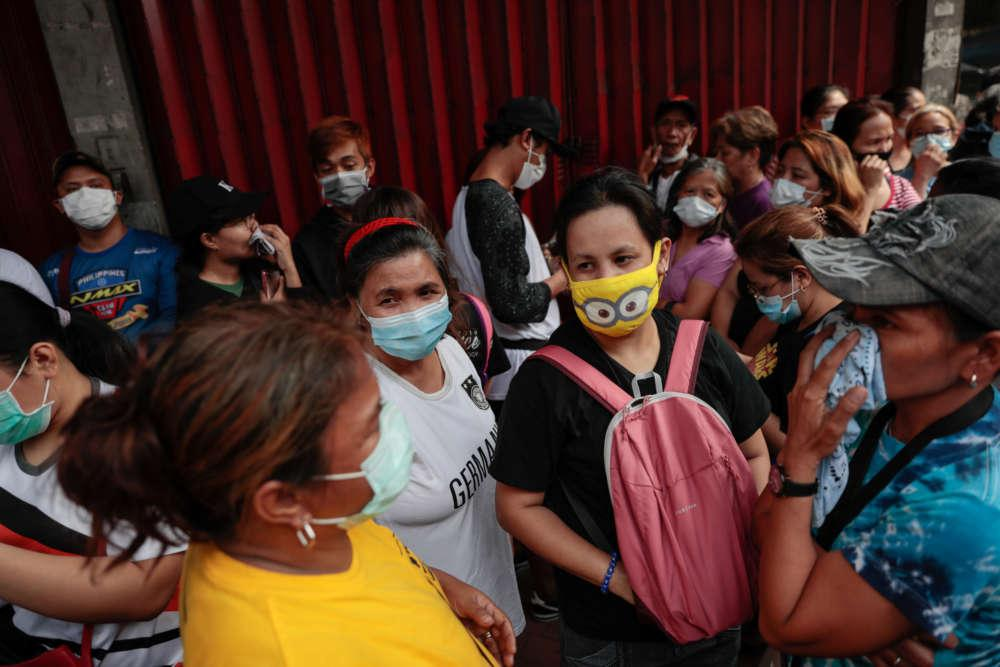mask: (317, 390, 419, 522), (834, 297, 950, 407), (571, 239, 661, 342), (366, 274, 452, 362), (1, 369, 56, 446), (744, 269, 801, 332), (62, 172, 118, 230), (319, 152, 371, 209), (767, 160, 819, 214), (674, 179, 719, 229), (854, 122, 894, 165), (911, 122, 949, 162), (519, 150, 549, 190)
poor: (219, 215, 267, 264), (657, 114, 691, 160)
